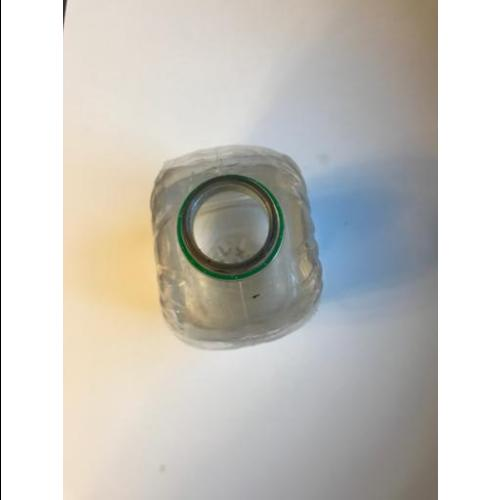plastic: (150, 145, 326, 349)
